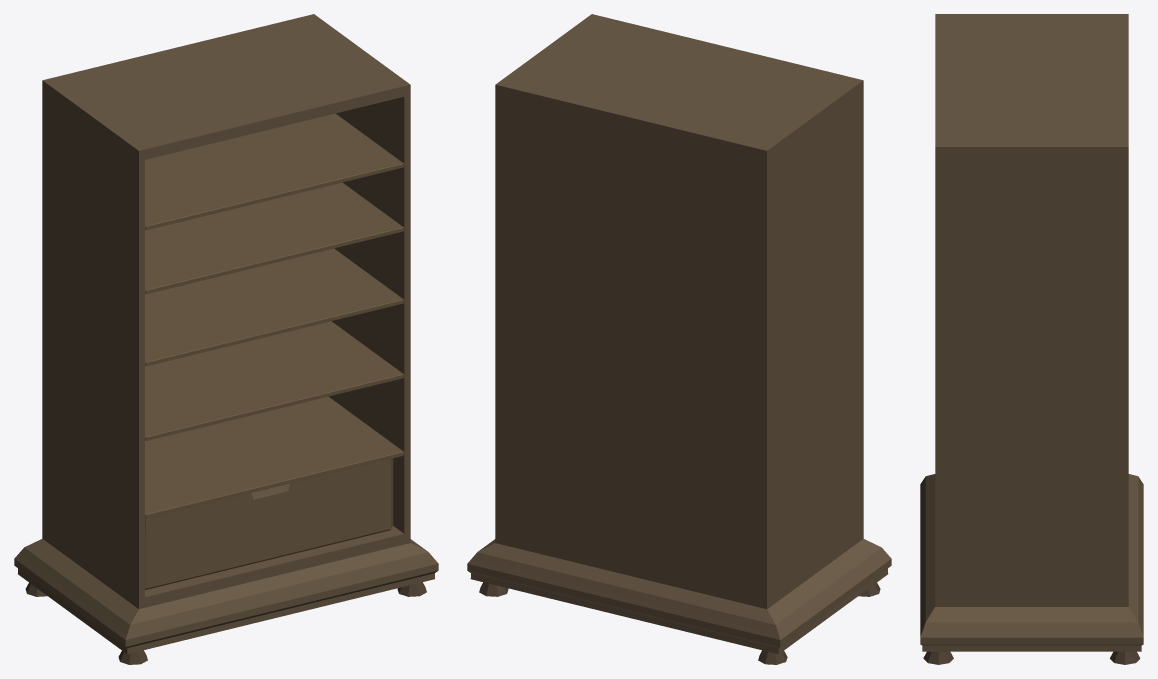
Rendered from Shelve.fbx.
3 views of the same model, side by side, from view 1: azimuth 30°, elevation 25°; view 2: azimuth 150°, elevation 25°; view 3: azimuth 270°, elevation 25° (orthographic).
Visible parts, largest first — view 1: Shelve; view 2: Shelve; view 3: Shelve.
Part boxes in pixels (x1,y1,x2,y2): Shelve: (14,14,438,664); Shelve: (467,14,891,664); Shelve: (920,14,1143,664).
Size of the model in its own units: 3.99 by 6.19 by 2.46.
